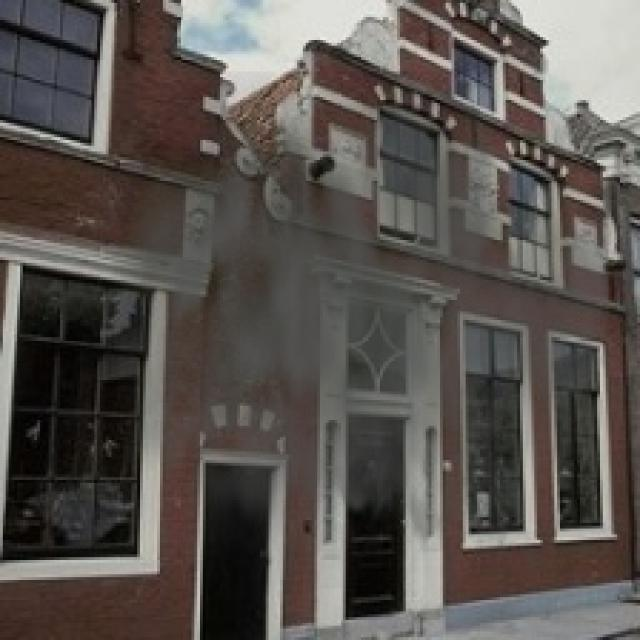Smoke: (86, 71, 608, 608)
